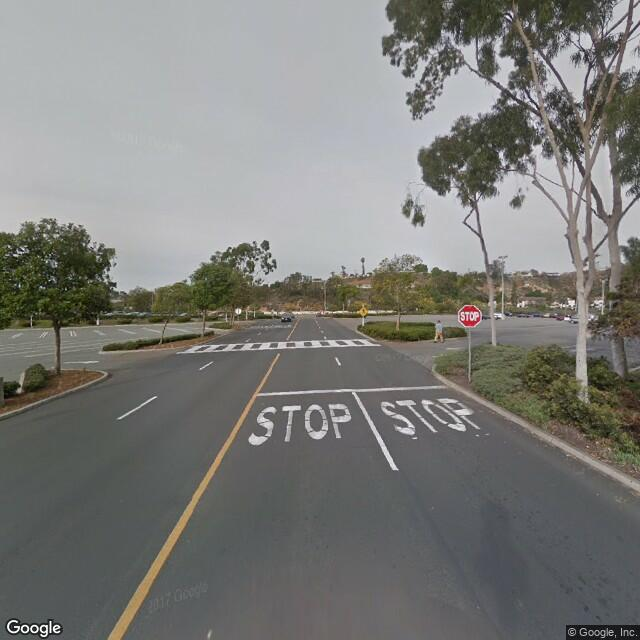litter: (606, 446, 614, 454), (584, 444, 591, 452), (565, 452, 575, 457), (409, 436, 419, 441), (595, 438, 600, 446), (483, 432, 491, 437), (475, 432, 480, 437)
